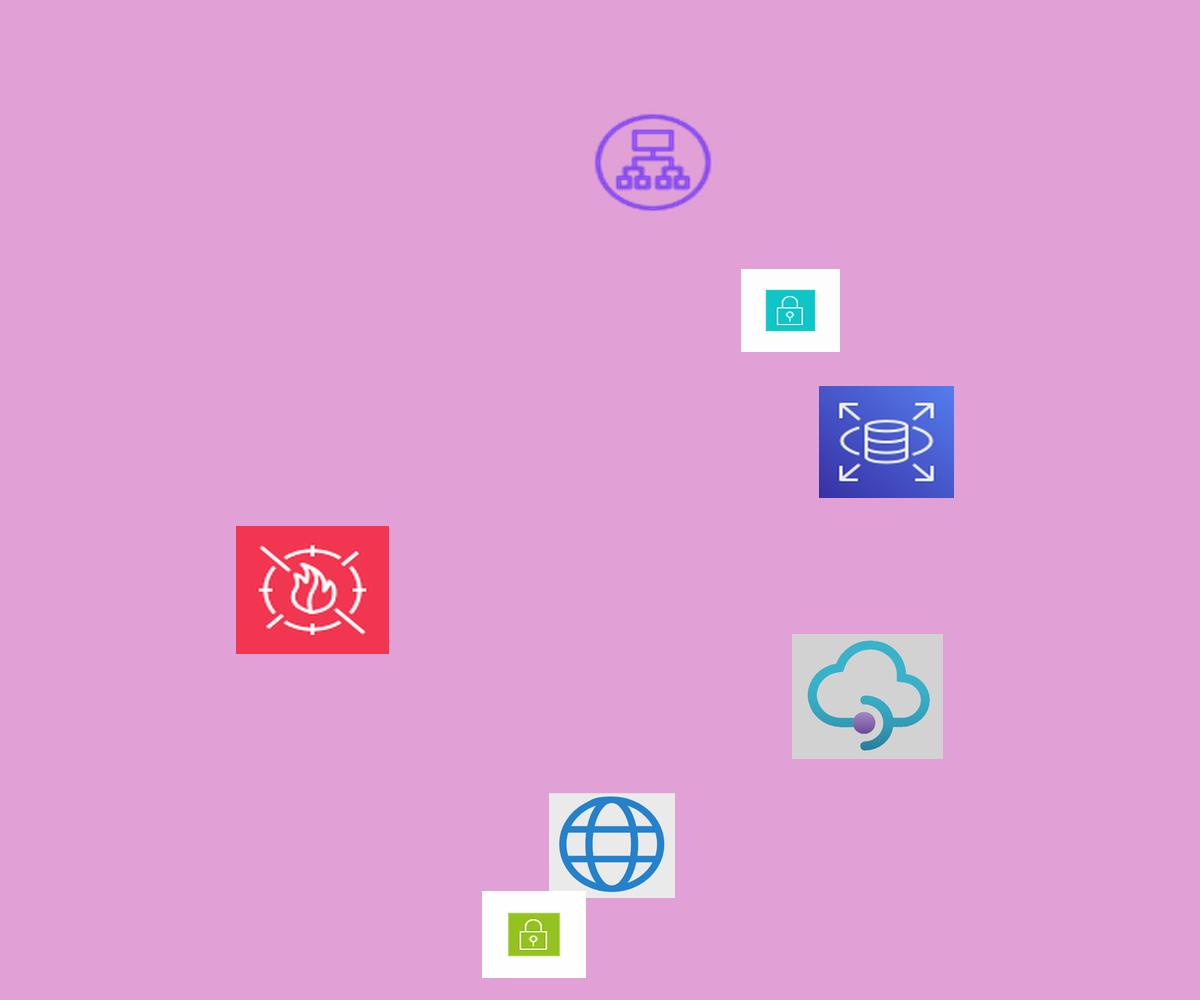AWS-Private-subnet: (741, 269, 840, 352)
AWS-Public-subnet: (482, 891, 586, 978)
AWS-RDS: (819, 386, 954, 498)
AWS-Res_Elastic-Load-Balancing_Application-Load-Balancer: (590, 110, 716, 215)
AWS-WAF: (236, 526, 389, 654)
Azure_api_gateway: (792, 634, 943, 759)
Azure_http: (549, 793, 675, 898)
